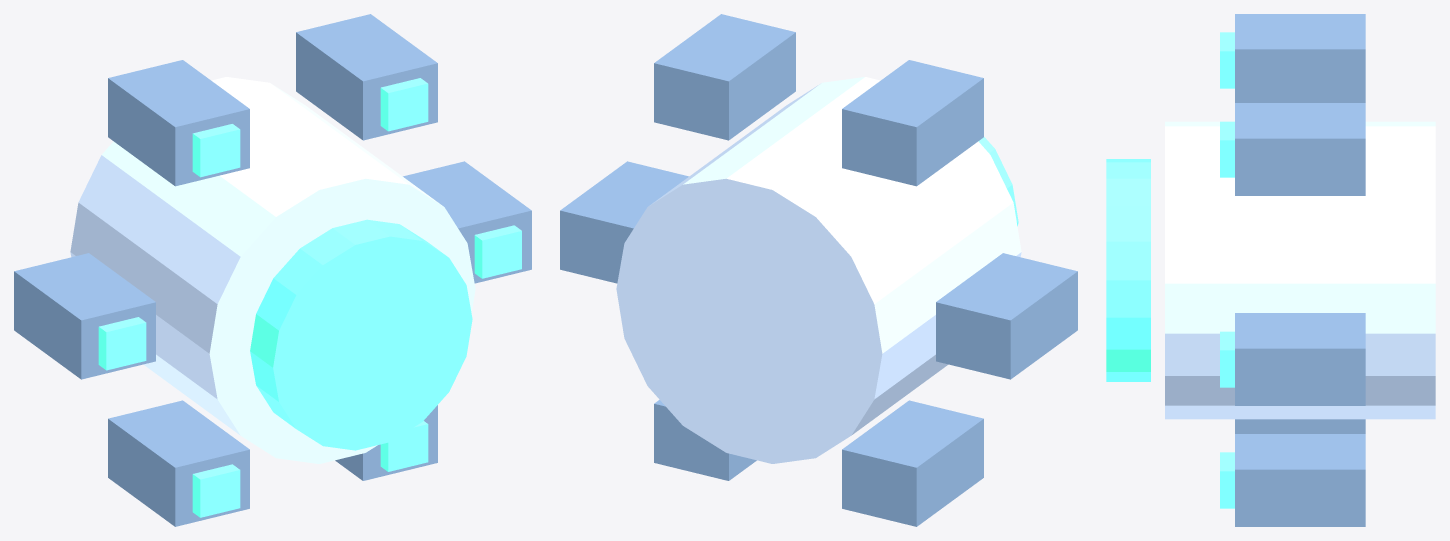
Rendered from nanobot_rep-2.glb.
3 views of the same model, side by side, from view 1: azimuth 30°, elevation 25°; view 2: azimuth 150°, elevation 25°; view 3: azimuth 270°, elevation 25° (orthographic). The views are drawn at different scales.
Visible parts, largest first — view 1: nanobot_core, med_core, bot_2, bot_4, bot_1, bot_3, bot_0, signal_2, signal_1, signal_3, signal_4, signal_0 (+2 smaller); view 2: nanobot_core, bot_2, bot_3, bot_1, bot_4, bot_0, bot_5; view 3: nanobot_core, bot_0, bot_1, bot_5, bot_2, med_core, bot_4, signal_0, signal_1, signal_2, signal_5.
Part boxes in pixels (left/top/right/bottom): nanobot_core: left=70, top=77, right=475, bottom=463; med_core: left=250, top=219, right=472, bottom=450; bot_2: left=108, top=60, right=249, bottom=186; bot_4: left=108, top=400, right=249, bottom=526; bot_1: left=296, top=14, right=437, bottom=140; bot_3: left=14, top=253, right=155, bottom=379; bot_0: left=403, top=161, right=531, bottom=283; signal_2: left=192, top=124, right=240, bottom=177; signal_1: left=380, top=78, right=428, bottom=131; signal_3: left=98, top=317, right=146, bottom=370; signal_4: left=192, top=464, right=240, bottom=517; signal_0: left=474, top=225, right=521, bottom=278; nanobot_core: left=616, top=77, right=1021, bottom=463; bot_2: left=842, top=60, right=983, bottom=186; bot_3: left=936, top=253, right=1077, bottom=379; bot_1: left=654, top=14, right=795, bottom=140; bot_4: left=842, top=400, right=983, bottom=526; bot_0: left=560, top=161, right=688, bottom=283; bot_5: left=654, top=400, right=756, bottom=480; nanobot_core: left=1165, top=121, right=1435, bottom=419; bot_0: left=1235, top=313, right=1365, bottom=405; bot_1: left=1235, top=103, right=1365, bottom=195; bot_5: left=1235, top=434, right=1365, bottom=526; bot_2: left=1235, top=14, right=1365, bottom=102; med_core: left=1106, top=159, right=1150, bottom=381; bot_4: left=1235, top=419, right=1365, bottom=433; signal_0: left=1220, top=331, right=1234, bottom=387; signal_1: left=1220, top=121, right=1234, bottom=177; signal_2: left=1220, top=32, right=1234, bottom=88; signal_5: left=1220, top=452, right=1234, bottom=508.
Size of the model in its own units: 2.71 by 2.3 by 1.76.
